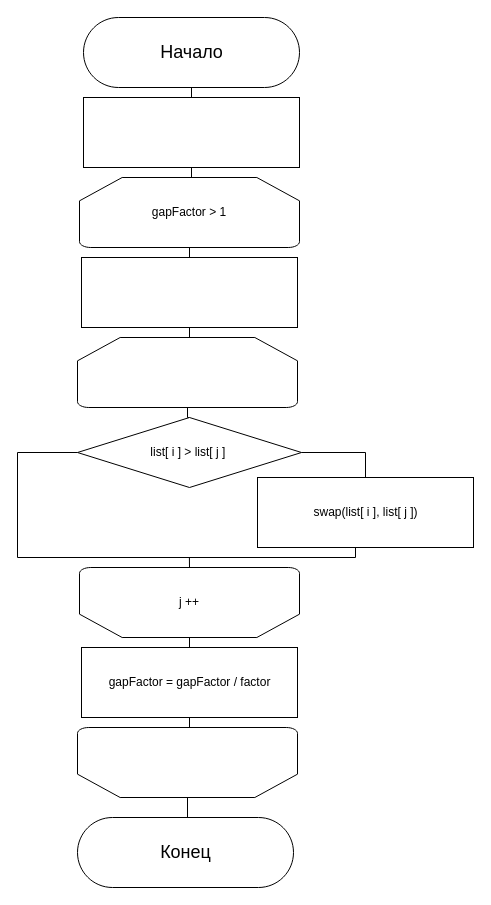
Image size: 491x905. Some labels were removed from this diagram. Each missing label, with the box of its shape:
const double factor = 1.247 double gapFactor = list.size() / factor int gap = 0: (82, 96, 300, 168)
gap = round(gapFactor): (80, 256, 298, 328)
j = gap...list.size(): (76, 336, 298, 408)
